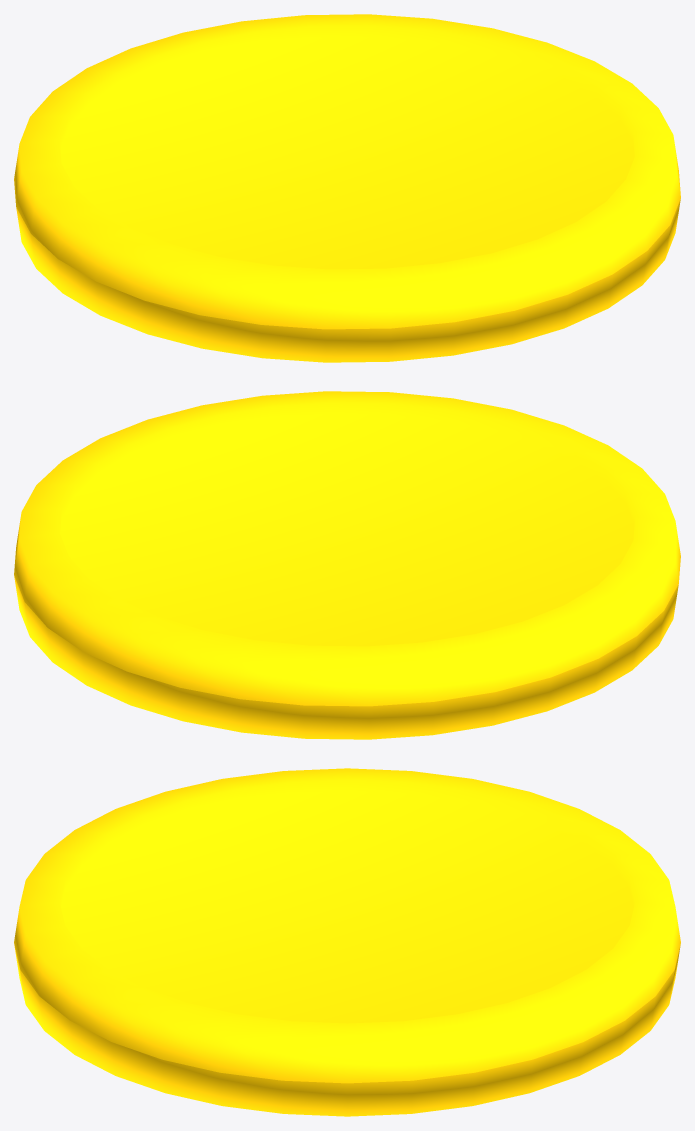
The model's file is coinv0.fbx.
3 renders of one model, top to bottom at view 1: azimuth 30°, elevation 25°; view 2: azimuth 150°, elevation 25°; view 3: azimuth 270°, elevation 25°, orthographic.
Parts seen in each view (by area): view 1: Cylinder; view 2: Cylinder; view 3: Cylinder.
Boxes of the visible parts, <box> form: Cylinder: <box>14,14,680,362</box>; Cylinder: <box>14,391,680,739</box>; Cylinder: <box>14,768,680,1116</box>.
Size of the model in its own units: 2.98 by 0.4 by 2.98.
